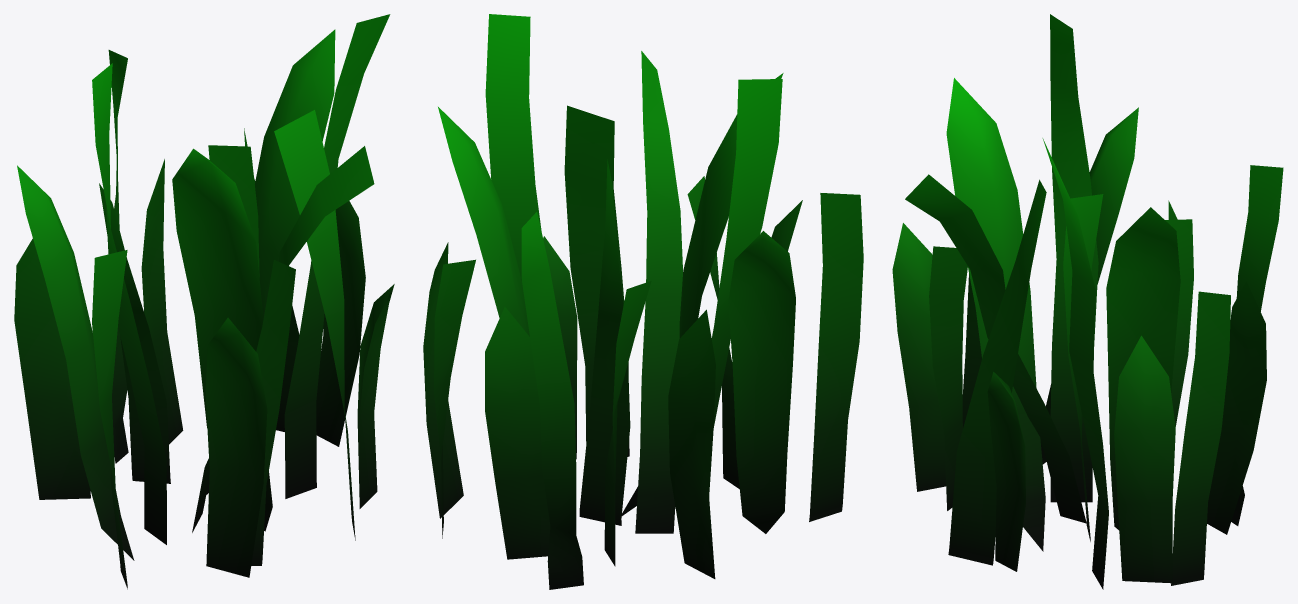
Rendered from TGV_Plant_02A.fbx.
The picture shows the model from 3 angles, left to right: view 1: azimuth 30°, elevation 25°; view 2: azimuth 150°, elevation 25°; view 3: azimuth 270°, elevation 25°; orthographic projection. The views are drawn at different scales.
Visible parts, largest first — view 1: TGV_Plant_02A_LOD0; view 2: TGV_Plant_02A_LOD0; view 3: TGV_Plant_02A_LOD0.
Boxes of the visible parts, x1,y1,x2,y2 form: TGV_Plant_02A_LOD0: (14, 14, 394, 589); TGV_Plant_02A_LOD0: (423, 14, 863, 589); TGV_Plant_02A_LOD0: (892, 14, 1283, 589).
Bounding box in the file's own units: 86.06 × 114 × 88.06.
